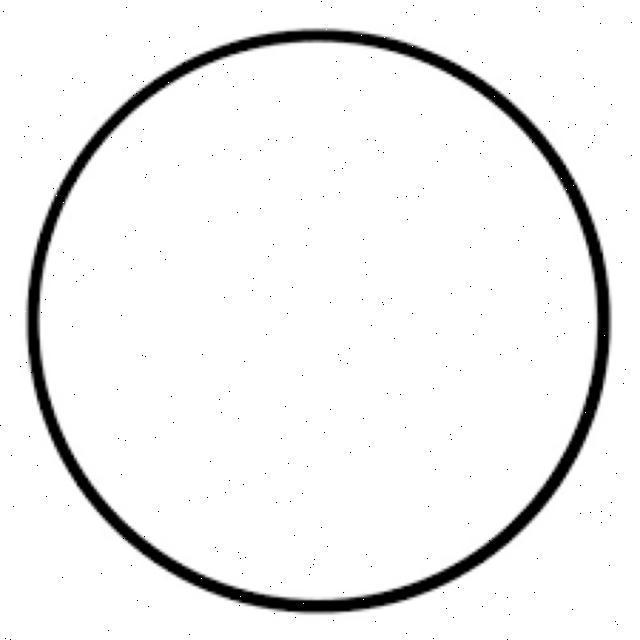Circle: (25, 26, 612, 611)
